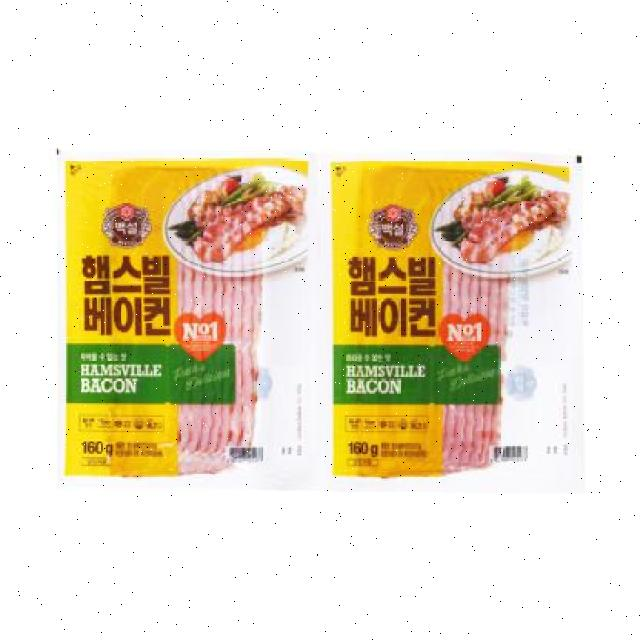Bacon: (32, 148, 319, 504), (322, 145, 604, 500)
